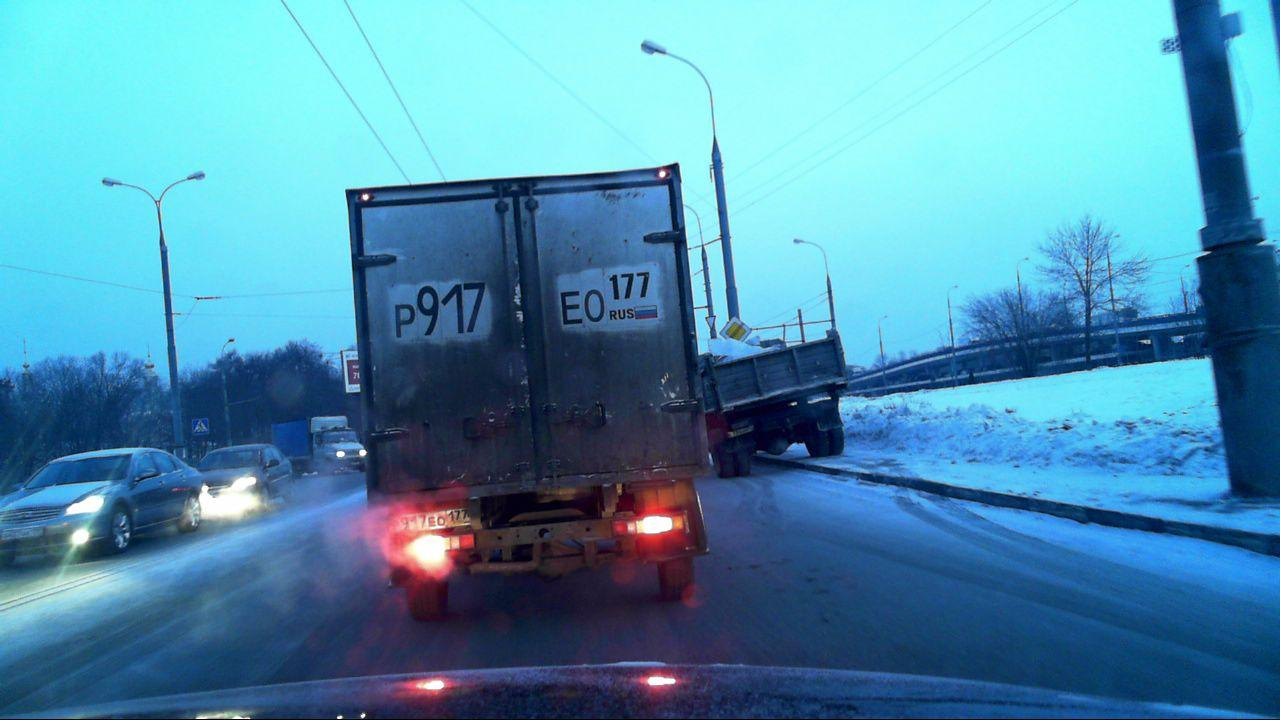2_2: (720, 315, 751, 346)
2_4: (704, 315, 717, 329)
5_19_1: (190, 417, 211, 435)
